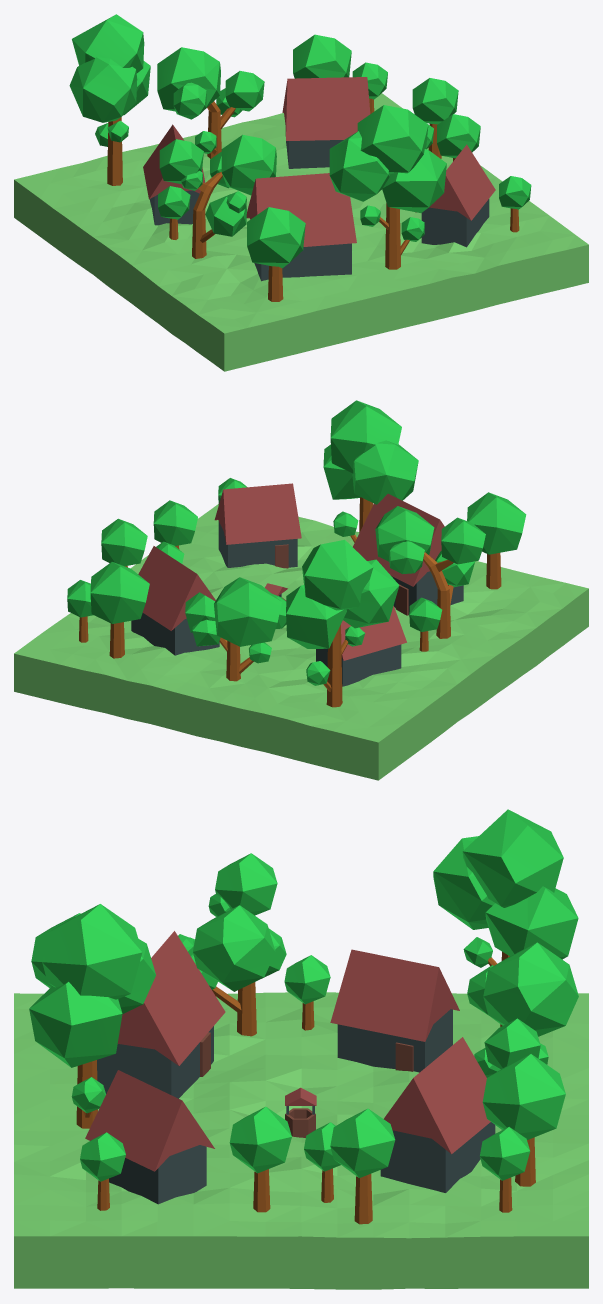
Rendered from village.fbx.
3 renders of one model, top to bottom at view 1: azimuth 30°, elevation 25°; view 2: azimuth 150°, elevation 25°; view 3: azimuth 270°, elevation 25°, orthographic. The views are drawn at different scales.
Visible parts, largest first — view 1: Plane.000; view 2: Plane.000; view 3: Plane.000.
Boxes of the visible parts, box(x1,y1,x2,y2) form: Plane.000: box(14, 14, 588, 371); Plane.000: box(14, 400, 588, 780); Plane.000: box(14, 809, 588, 1289).
Bounding box in the file's own units: 2000 × 1074 × 2000.
